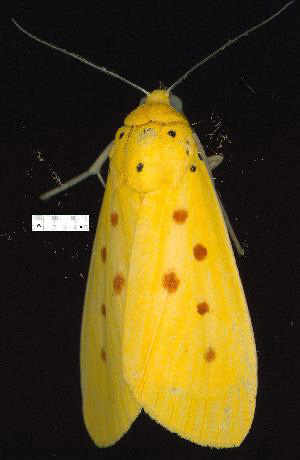Agape chloropyga: (7, 2, 298, 454)
moth: (5, 1, 296, 452)
